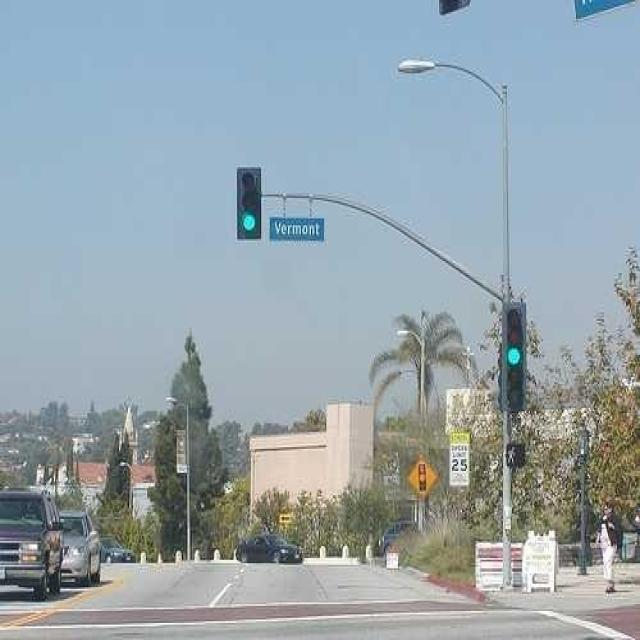Traffic Light -Green-: (501, 297, 528, 411), (500, 302, 528, 408), (232, 163, 264, 240)
